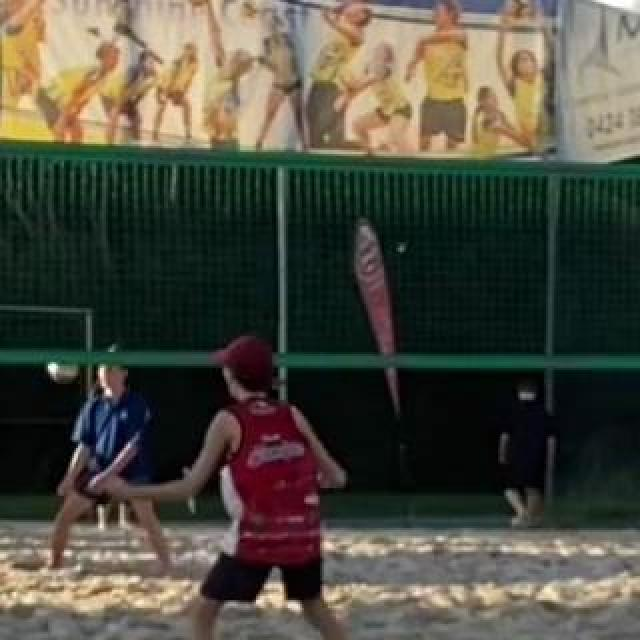volleyball: (46, 350, 78, 382)
